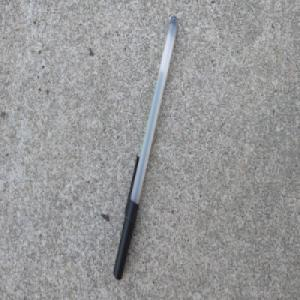Pen: (112, 12, 180, 282)
